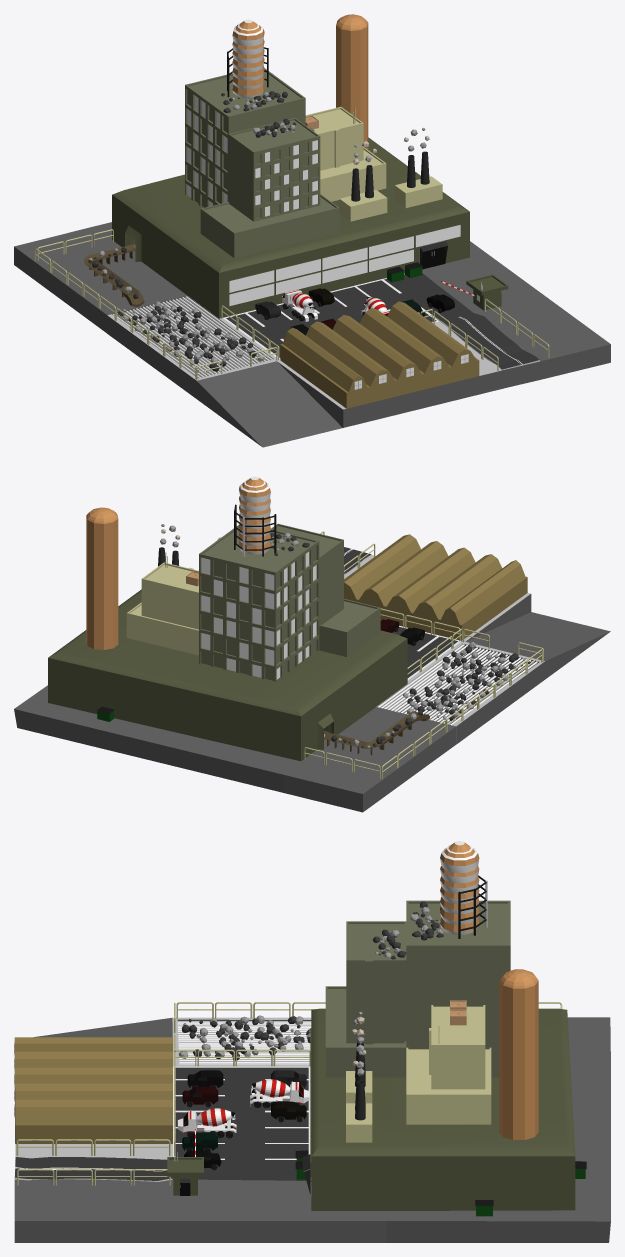
Rendered from Electrical.obj.
3 views of the same model, one above another, from view 1: azimuth 30°, elevation 25°; view 2: azimuth 150°, elevation 25°; view 3: azimuth 270°, elevation 25° (orthographic). The views are drawn at different scales.
Visible parts, largest first — view 1: Object_37, Object_24, Object_25, Object_36, Object_28, Object_38, Object_27, Object_20, Object_21, Object_14, Object_4, Object_26 (+7 smaller); view 2: Object_24, Object_37, Object_25, Object_36, Object_28, Object_20, Object_26, Object_21, Object_14, Object_15, Object_4, Object_38 (+3 smaller); view 3: Object_37, Object_24, Object_25, Object_36, Object_28, Object_38, Object_20, Object_4, Object_21, Object_14, Object_19, Object_15 (+6 smaller).
Boxes of the visible parts, box(x1,y1,x2,y2) form: Object_37: box(14, 222, 610, 447); Object_24: box(112, 137, 508, 318); Object_25: box(185, 68, 339, 258); Object_36: box(280, 301, 479, 408); Object_28: box(34, 106, 549, 379); Object_38: box(226, 273, 539, 369); Object_27: box(229, 225, 479, 389); Object_20: box(232, 14, 368, 149); Object_21: box(113, 296, 272, 378); Object_14: box(88, 91, 296, 372); Object_4: box(107, 21, 539, 409); Object_26: box(187, 95, 317, 216); Object_24: box(48, 589, 407, 761); Object_37: box(14, 594, 610, 812); Object_25: box(199, 523, 380, 681); Object_36: box(344, 534, 527, 640); Object_28: box(126, 531, 543, 779); Object_20: box(86, 478, 270, 649); Object_26: box(201, 551, 316, 679); Object_21: box(377, 644, 537, 725); Object_14: box(270, 532, 530, 748); Object_15: box(270, 533, 525, 748); Object_4: box(242, 517, 544, 744); Object_38: box(344, 547, 457, 677); Object_37: box(14, 1017, 610, 1242); Object_24: box(167, 1008, 575, 1210); Object_25: box(325, 900, 510, 1077); Object_36: box(14, 1037, 172, 1143); Object_28: box(16, 1002, 562, 1185); Object_38: box(15, 1067, 308, 1180); Object_20: box(440, 842, 538, 1139); Object_4: box(14, 843, 487, 1195); Object_21: box(177, 1021, 311, 1064); Object_14: box(181, 901, 443, 1060); Object_19: box(197, 841, 479, 1132); Object_15: box(178, 907, 443, 1058).
Bounding box in the file's own units: 212 × 166 × 262.
